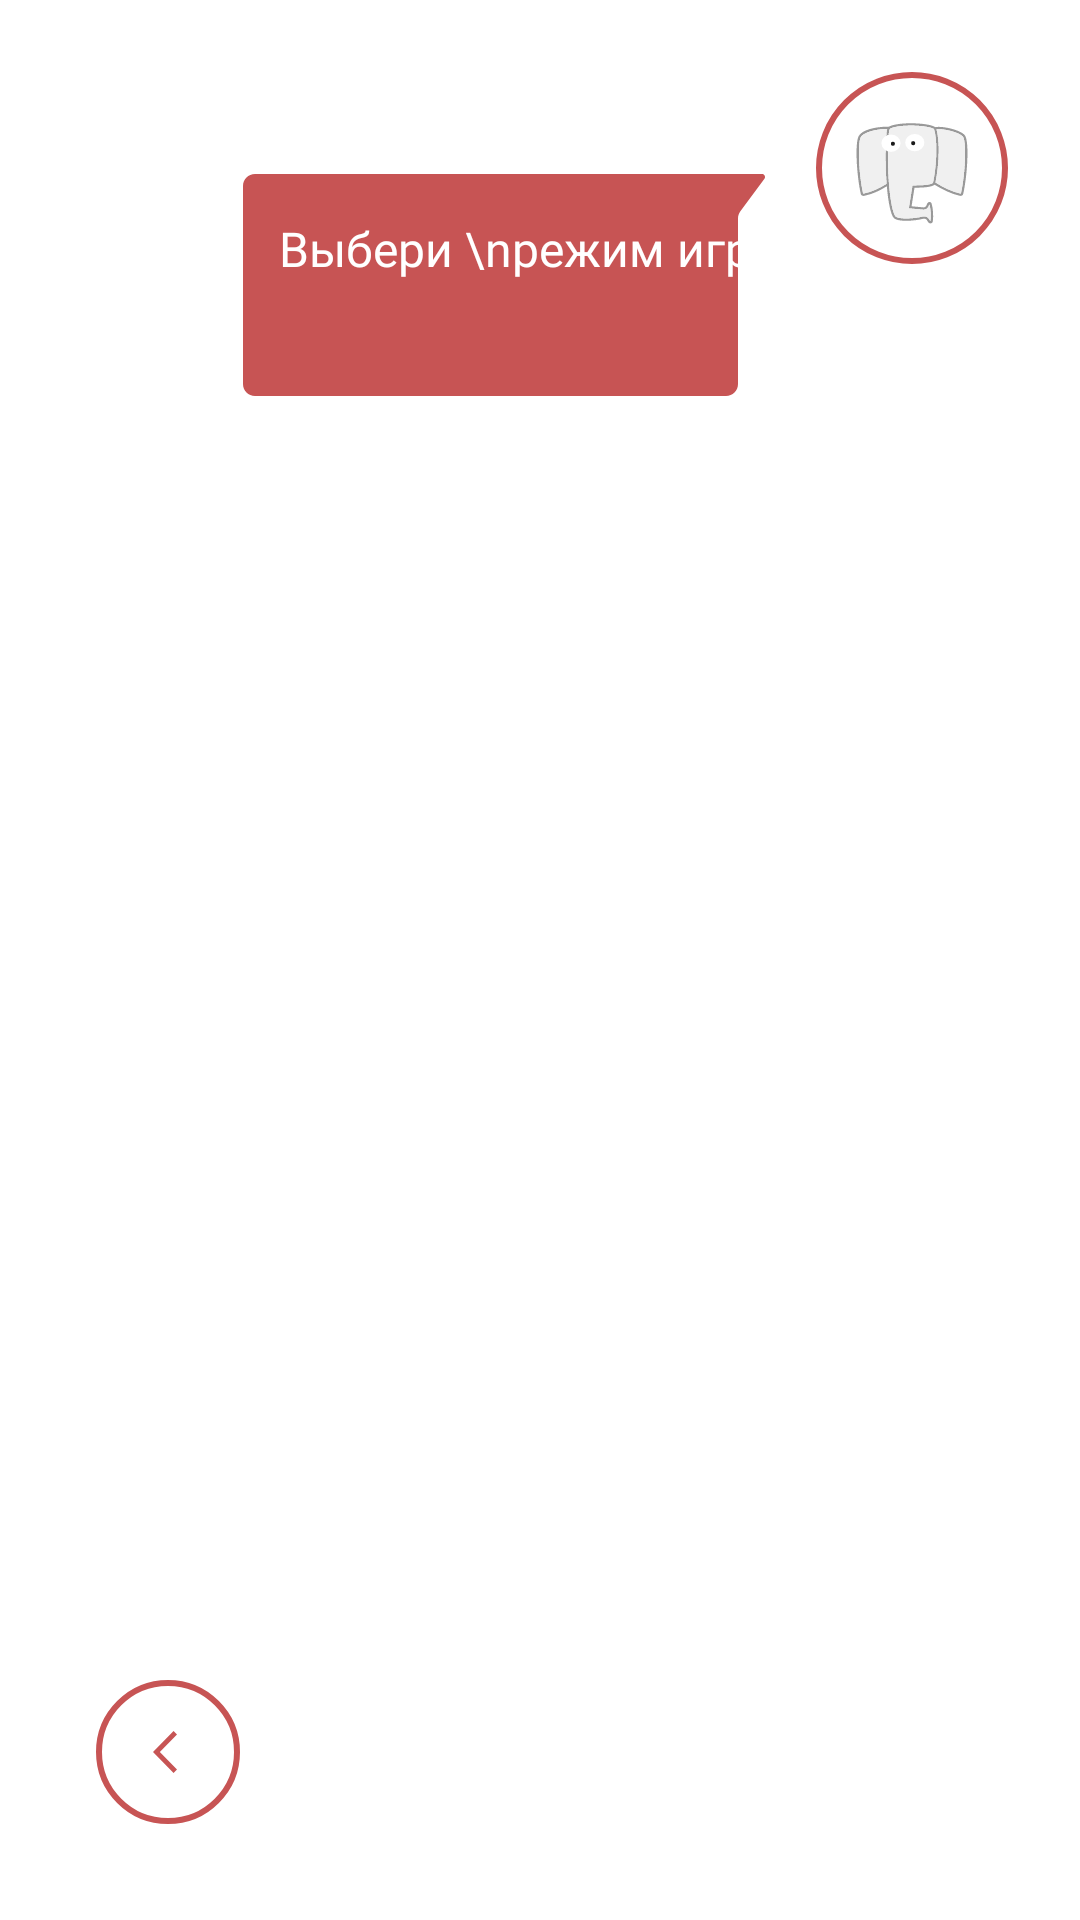

Point at icon controls on the screen. Image size 1080*1920, points as point (x, y).
back: point (168, 1752)
